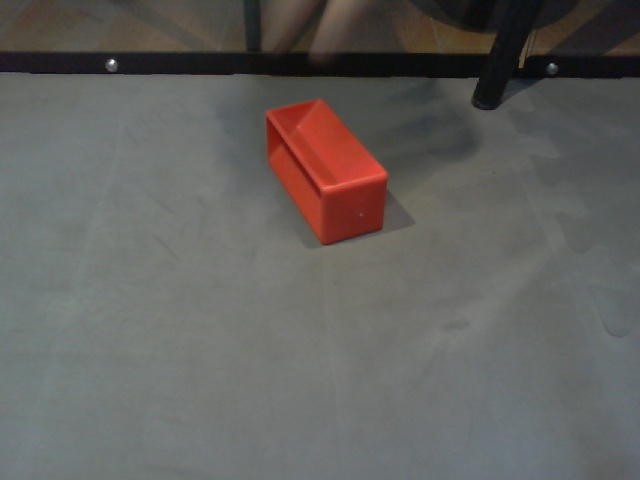RedSample: (264, 96, 390, 248)
